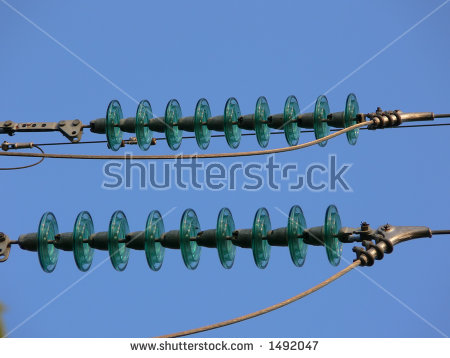isolator: (35, 203, 342, 274), (103, 92, 360, 152)
